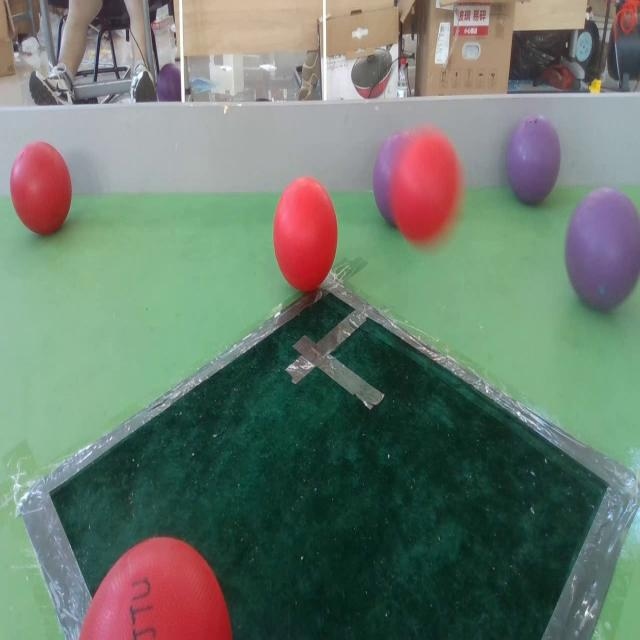invalid: (564, 181, 640, 313), (506, 116, 561, 202)
red: (82, 536, 231, 640), (392, 128, 464, 252), (274, 179, 338, 292), (11, 140, 72, 236)
